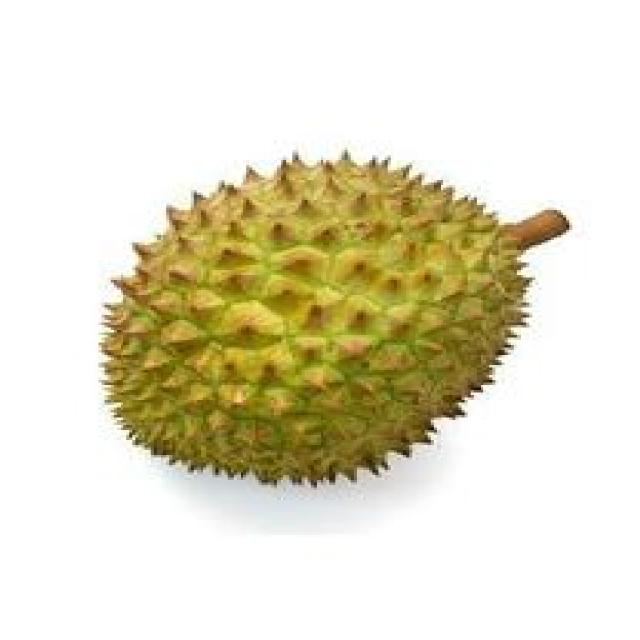fruit: (64, 140, 416, 540)
